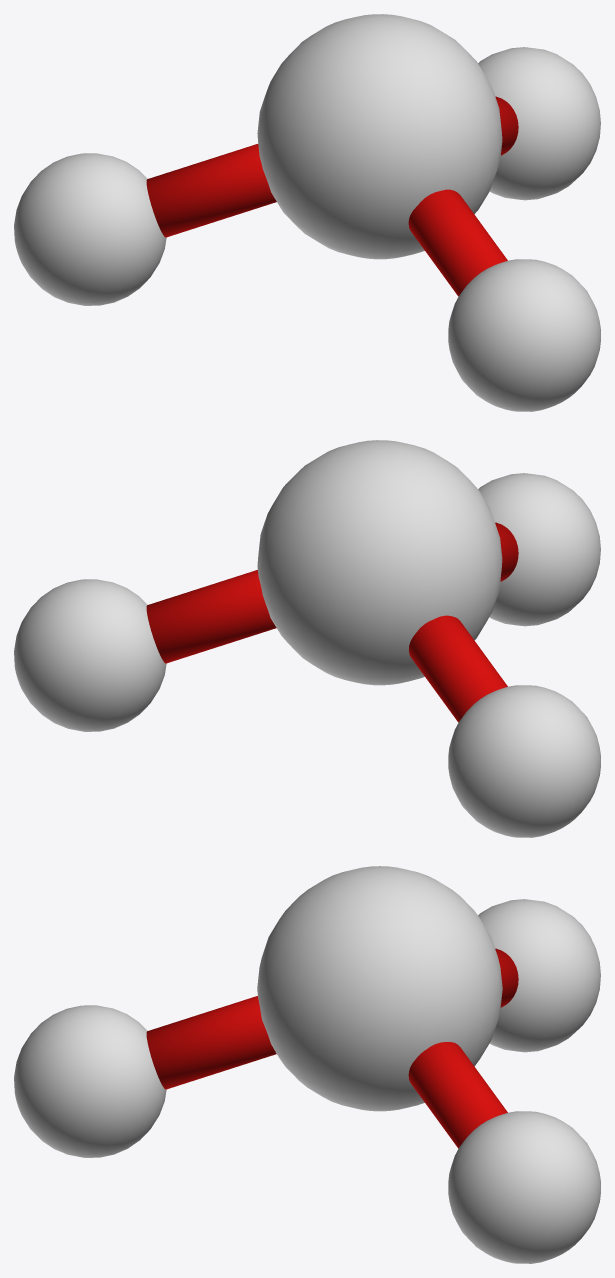
The picture shows the model from 3 angles, top to bottom: view 1: azimuth 30°, elevation 25°; view 2: azimuth 150°, elevation 25°; view 3: azimuth 270°, elevation 25°; orthographic projection.
Visible parts, largest first — view 1: Sphere, H.001, H.003, H.002, bond.003, bond.001, bond.002; view 2: Sphere, H.003, H.002, H.001, bond.002, bond.003, bond.001; view 3: Sphere, H.002, H.001, H.003, bond.001, bond.002, bond.003.
Boxes of the visible parts, box(x1,y1,x2,y2) form: Sphere: box(257, 14, 502, 259); H.001: box(448, 259, 600, 411); H.003: box(14, 153, 166, 305); H.002: box(478, 47, 600, 200); bond.003: box(146, 144, 276, 237); bond.001: box(408, 189, 507, 296); bond.002: box(495, 96, 518, 155); Sphere: box(257, 440, 502, 685); H.003: box(448, 685, 600, 837); H.002: box(14, 579, 166, 731); H.001: box(478, 473, 600, 626); bond.002: box(146, 570, 276, 663); bond.003: box(409, 615, 507, 722); bond.001: box(495, 522, 518, 581); Sphere: box(257, 866, 502, 1111); H.002: box(448, 1111, 600, 1263); H.001: box(14, 1005, 166, 1157); H.003: box(478, 899, 600, 1052); bond.001: box(146, 996, 276, 1089); bond.002: box(408, 1042, 507, 1148); bond.003: box(495, 948, 518, 1007).
Size of the model in its own units: 426 by 197 by 382.
